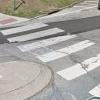Crosswalk: (7, 17, 100, 87)
